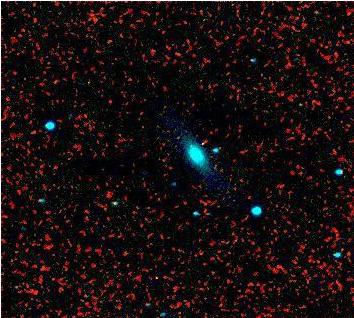star: (173, 127, 203, 157)
